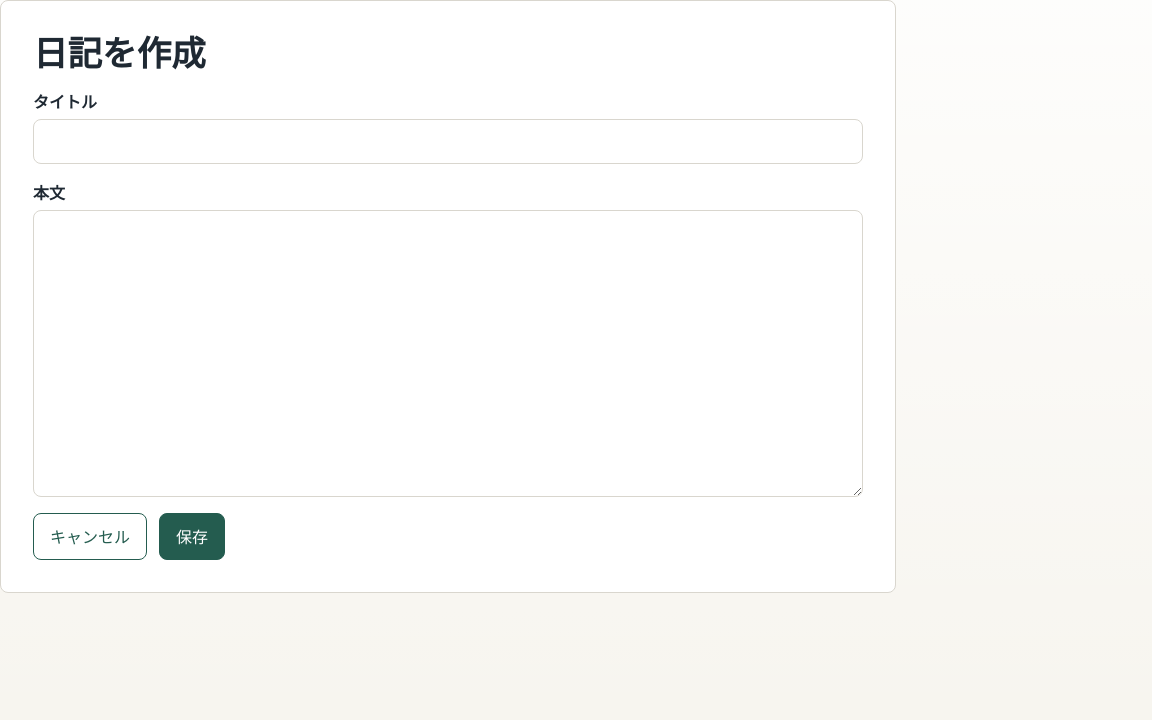
Scenario: DiaryEditorForm › validates title and content before submitting
The image size is (1152, 720).
Click the button "保存" at coordinates (192, 536), box x1=159 y1=513 x2=225 y2=560
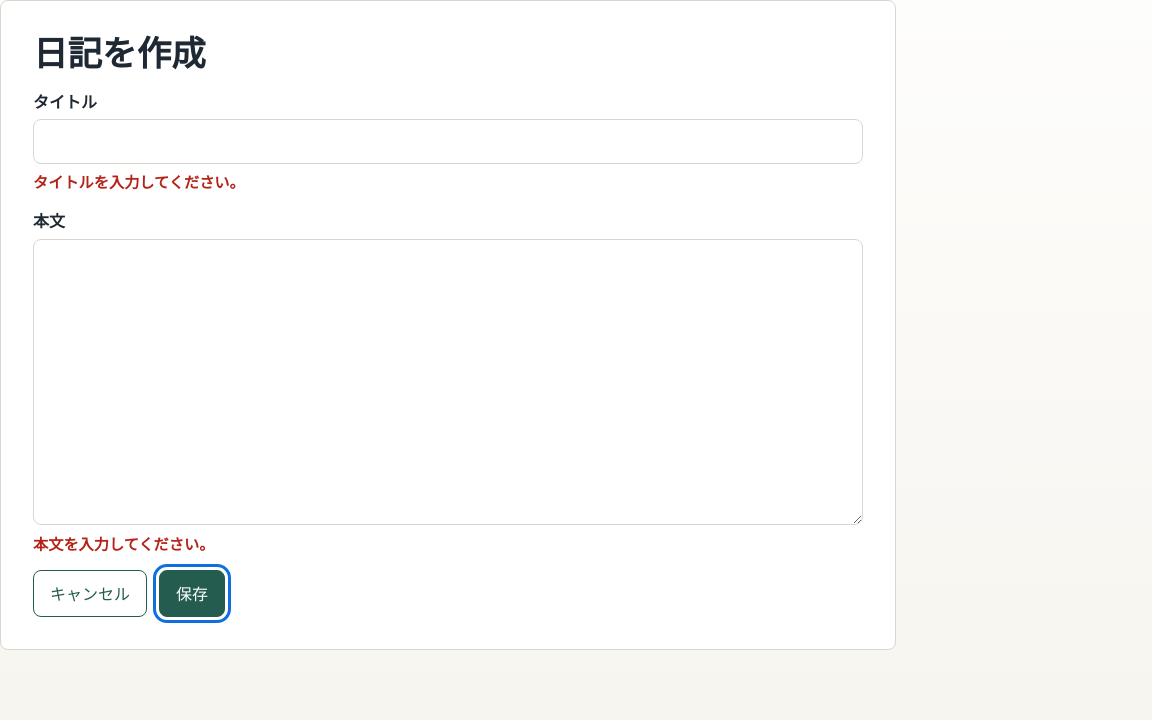
Result: the text "タイトルを入力してください。" is shown at x1=33 y1=172 x2=245 y2=192
Result: the text "本文を入力してください。" is shown at x1=33 y1=534 x2=214 y2=554
